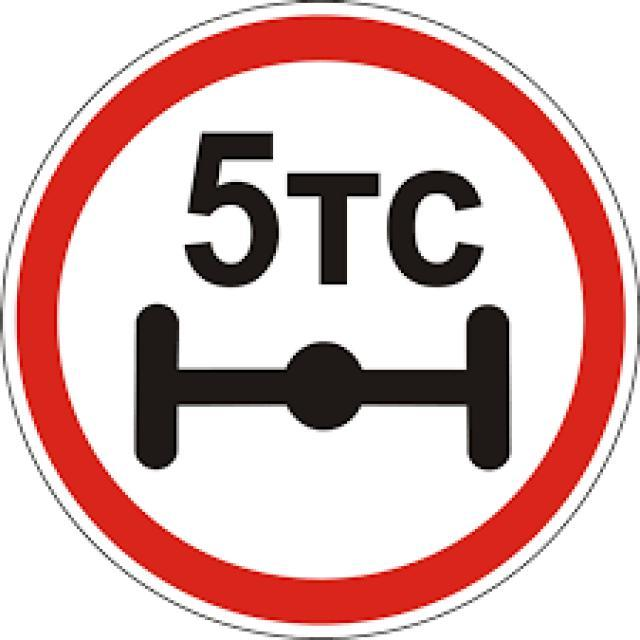axle load limit: (18, 14, 623, 620)
